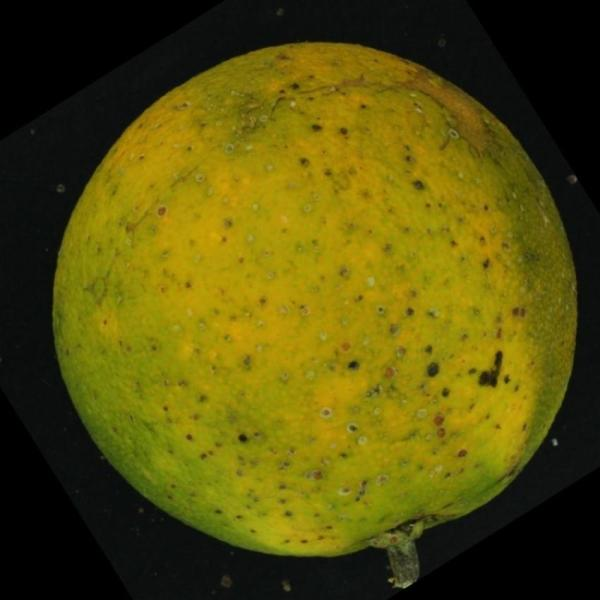Greening: (51, 34, 586, 571)
